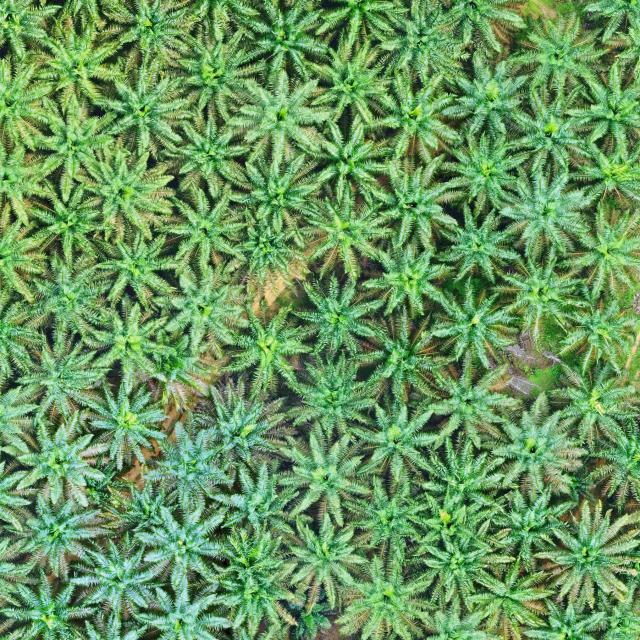Tree: (483, 386, 595, 507), (68, 133, 180, 248), (532, 497, 640, 614), (182, 368, 300, 474), (352, 300, 457, 417), (272, 423, 377, 534), (220, 65, 336, 165), (151, 256, 258, 364), (482, 243, 590, 349), (208, 520, 306, 636), (90, 54, 198, 159), (14, 404, 116, 514), (0, 487, 119, 581), (9, 250, 122, 348), (268, 510, 372, 616), (23, 92, 117, 206), (10, 326, 114, 429), (136, 409, 237, 515), (173, 15, 270, 124), (333, 545, 444, 640), (414, 354, 524, 449), (27, 17, 128, 118), (81, 292, 181, 394), (283, 344, 386, 443), (506, 7, 613, 102), (217, 296, 314, 400), (63, 527, 167, 624), (289, 187, 394, 283), (150, 182, 248, 284), (368, 150, 464, 253), (288, 37, 392, 132), (541, 357, 640, 456), (498, 164, 596, 264), (425, 276, 525, 372), (438, 44, 534, 144), (345, 400, 444, 493), (223, 150, 324, 240), (438, 125, 533, 219), (479, 476, 574, 570), (342, 470, 434, 567), (206, 457, 318, 536), (158, 109, 256, 199), (130, 499, 230, 586), (373, 69, 464, 163), (416, 434, 512, 523), (554, 202, 640, 300), (507, 84, 597, 177), (356, 231, 457, 313), (84, 375, 172, 469), (318, 111, 396, 214), (88, 225, 179, 313), (286, 271, 380, 356), (561, 58, 640, 156), (554, 291, 640, 381), (248, 0, 338, 86), (432, 200, 519, 288), (378, 3, 471, 85), (0, 567, 103, 640), (464, 560, 555, 640), (130, 572, 234, 640), (222, 212, 314, 288), (99, 0, 206, 65), (408, 482, 497, 558), (417, 524, 494, 610), (27, 176, 103, 263), (582, 414, 640, 511), (572, 138, 640, 213), (105, 478, 180, 536)
